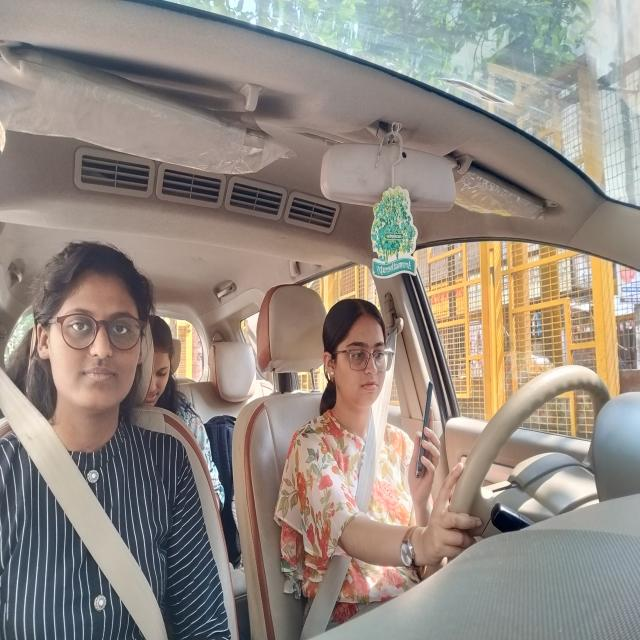mobile: (413, 374, 438, 482)
person: (32, 239, 152, 420), (320, 296, 395, 416), (147, 302, 173, 416)
